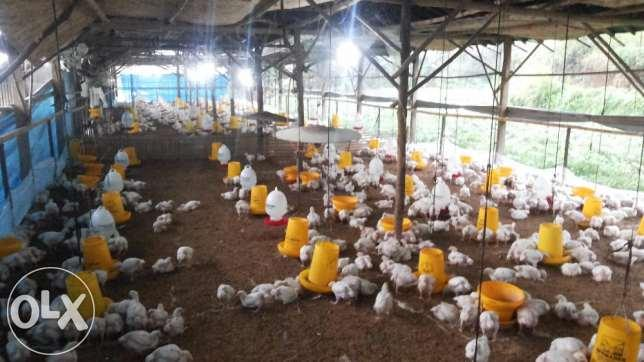chicken: (120, 326, 164, 354), (126, 289, 148, 326), (456, 299, 479, 330), (554, 293, 577, 322), (576, 300, 600, 326), (464, 336, 491, 359), (329, 280, 356, 303), (238, 289, 268, 309), (432, 302, 459, 324), (481, 309, 501, 338), (373, 284, 392, 313), (168, 305, 186, 334), (484, 267, 517, 282), (153, 256, 177, 275), (594, 265, 613, 284), (216, 284, 235, 301), (179, 244, 194, 263)
